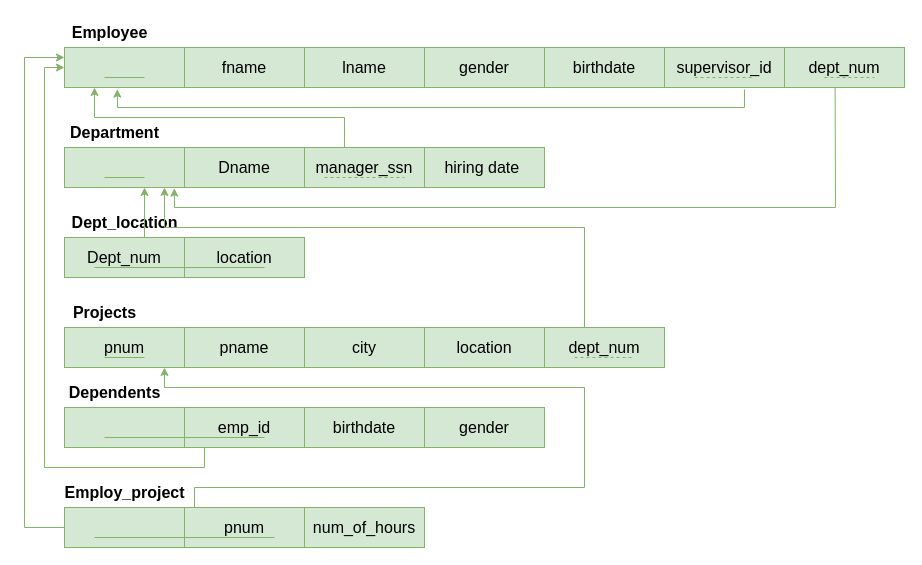
Some shapes in this 922 by 565 pixel diagram are drawn without their labels. The shapes that lost their labels are listed below. From the top down, each one's centre as x and y in pixels, then its label:
At point 124,67: "ssn".
At point 124,167: "Dnum".
At point 124,427: "name".
At point 124,527: "emp_ssn".
